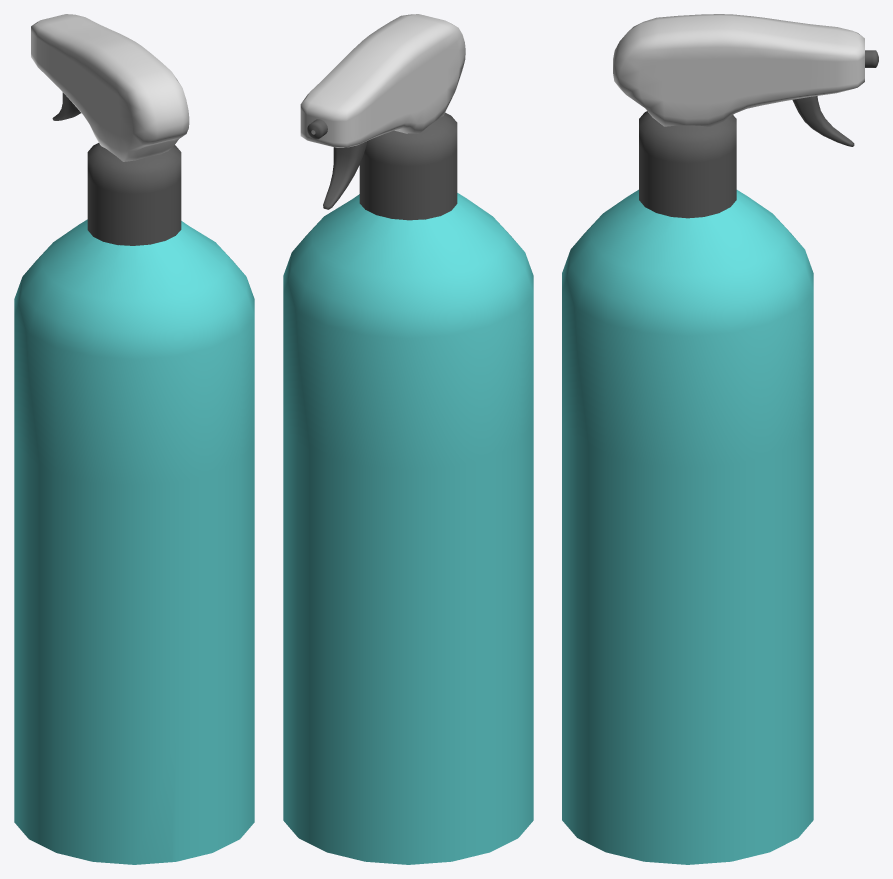
Rendered from Spray.FBX.
The picture shows the model from 3 angles, left to right: view 1: azimuth 30°, elevation 25°; view 2: azimuth 150°, elevation 25°; view 3: azimuth 270°, elevation 25°; orthographic projection. The views are drawn at different scales.
Parts seen in each view (by area): view 1: Tanque, Cabeza, Rosca; view 2: Tanque, Cabeza, Rosca, Gatillo; view 3: Tanque, Cabeza, Rosca, Gatillo.
Boxes of the visible parts, bbox=[...] form: Tanque: bbox=[14, 219, 254, 864]; Cabeza: bbox=[31, 14, 189, 161]; Rosca: bbox=[87, 143, 181, 245]; Tanque: bbox=[283, 193, 533, 864]; Cabeza: bbox=[300, 14, 465, 147]; Rosca: bbox=[359, 112, 457, 220]; Gatillo: bbox=[323, 141, 367, 209]; Tanque: bbox=[562, 189, 813, 864]; Cabeza: bbox=[613, 14, 864, 126]; Rosca: bbox=[639, 111, 736, 218]; Gatillo: bbox=[792, 96, 854, 146].
Size of the model in its own units: 19.68 by 67.08 by 24.42.
